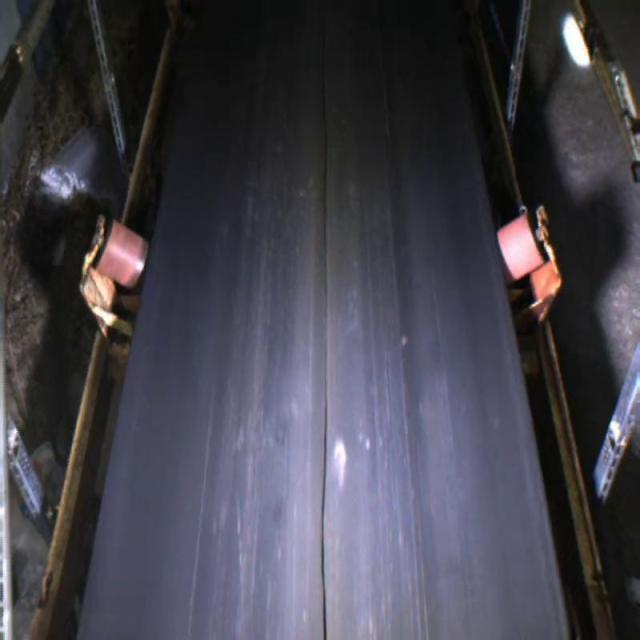Tear: (314, 133, 338, 640)
